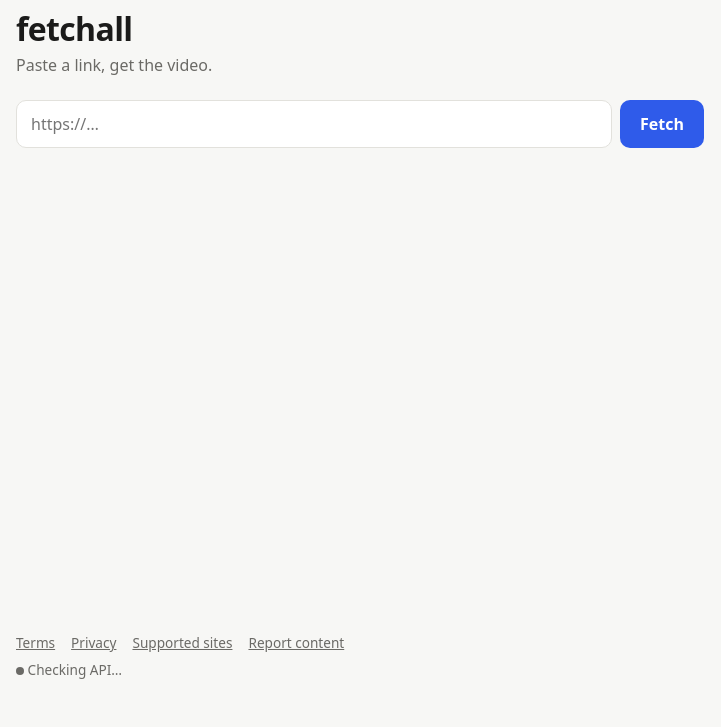
Test: the footer link Report content opens its page
Click the link "Report content": click(296, 642) [248,633,344,652]
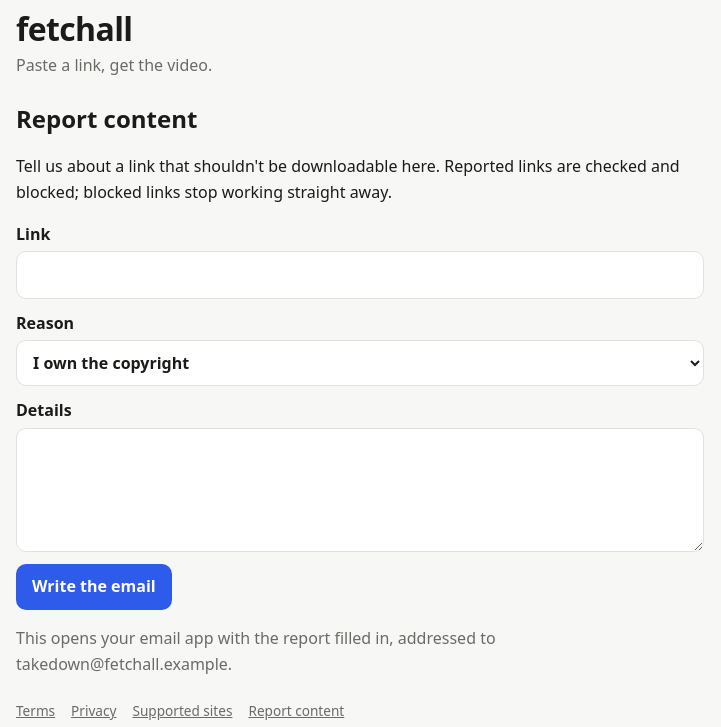
Check: the heading "Report content" is shown, box [16,102,197,135]
